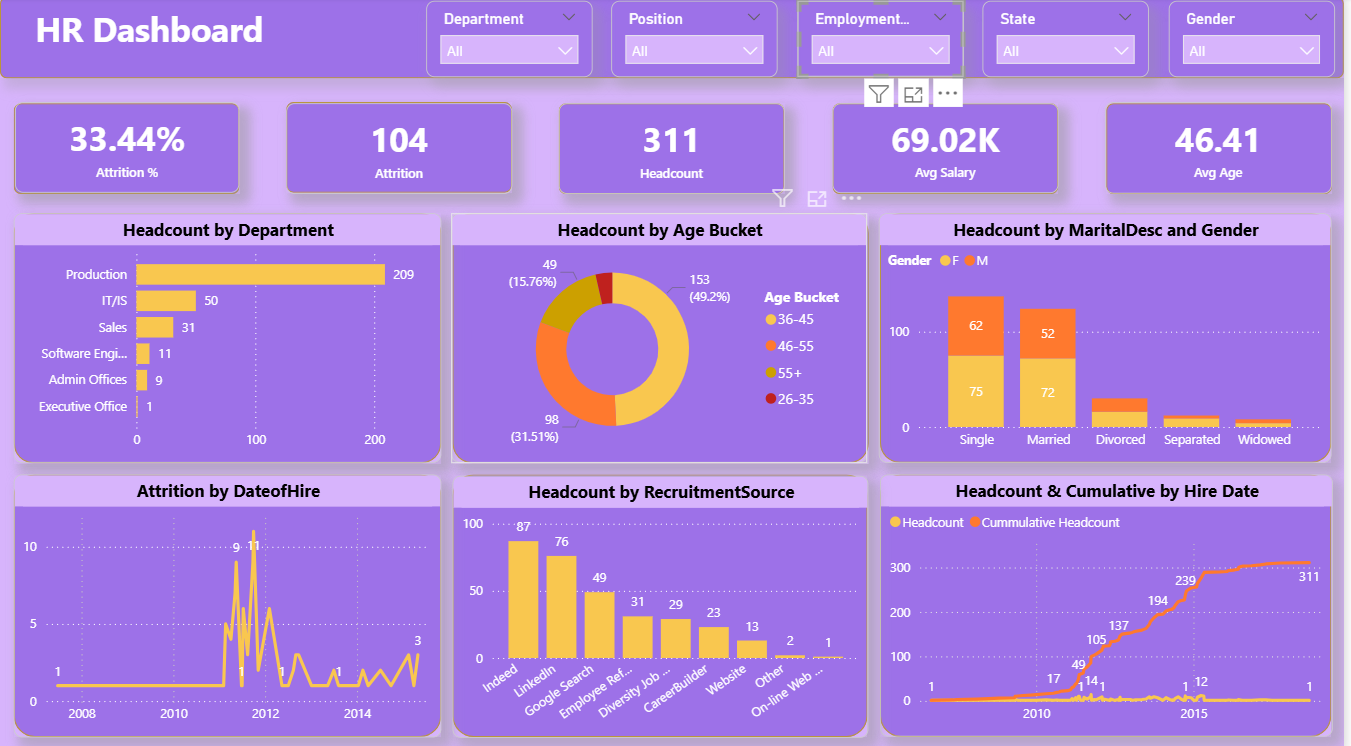

The page's visual inventory and layout, read from the dashboard file:
{"tool":"powerbi","page":{"name":"Page 1","canvas":[1280,720],"ordinal":0},"visuals":[{"type":"shape","box":[0,0,1279.8,77.4],"z":0},{"type":"shape","box":[13.2,100.9,214.9,86.5],"z":1000},{"type":"shape","box":[272.6,99.7,214.9,86.5],"z":2000},{"type":"shape","box":[531.9,100.9,214.9,86.5],"z":3000},{"type":"shape","box":[792.5,100.9,214.9,86.5],"z":4000},{"type":"shape","box":[1053.1,100.9,214.9,86.5],"z":5000},{"type":"shape","box":[13.1,206,407.1,238.1],"z":6000},{"type":"shape","box":[431,206,396.4,238.1],"z":7000},{"type":"shape","box":[838.1,206.5,429.9,237.7],"z":8000},{"type":"shape","box":[13.1,454.8,407.1,250],"z":9000},{"type":"shape","box":[431,454.8,395.2,250],"z":10000},{"type":"shape","box":[838.1,454.8,429.8,250],"z":11000},{"type":"card","fields":{"Values":["MEASUR.Headcount"]},"box":[532.5,100.7,215,86],"z":12000},{"type":"card","fields":{"Values":["MEASUR.Attrition %"]},"box":[14.4,99.7,213.7,86.5],"z":13000},{"type":"card","fields":{"Values":["MEASUR.Avg Salary"]},"box":[792.7,100.9,214.9,85.3],"z":14000},{"type":"card","fields":{"Values":["MEASUR.Avg Age"]},"box":[1052.9,99.5,215.7,87.1],"z":15000},{"type":"card","fields":{"Values":["MEASUR.Attrition"]},"box":[272.3,100.7,215,86],"z":16000},{"type":"clusteredBarChart","fields":{"Y":["MEASUR.Headcount"],"Category":["HRDataset_v14.Department"]},"box":[13.2,206.5,407.1,237.7],"z":17000},{"type":"donutChart","fields":{"Category":["HRDataset_v14.Age Bucket"],"Y":["MEASUR.Headcount"]},"box":[429.9,206.5,396.2,237.7],"z":18000},{"type":"columnChart","fields":{"Category":["HRDataset_v14.MaritalDesc"],"Y":["MEASUR.Headcount"],"Series":["HRDataset_v14.Gender"]},"box":[836.9,206.5,431.1,237.7],"z":19000},{"type":"lineChart","title":"Headcount & Cumulative by Hire Date","fields":{"Category":["HRDataset_v14.DateofHire"],"Y":["MEASUR.Headcount","MEASUR.Cummulative Headcount"]},"box":[838.1,455.1,431.1,249.8],"z":20000},{"type":"lineChart","fields":{"Y":["MEASUR.Attrition"],"Category":["HRDataset_v14.DateofHire"]},"box":[13.1,454.8,407.1,250],"z":21000},{"type":"columnChart","fields":{"Y":["MEASUR.Headcount"],"Category":["HRDataset_v14.RecruitmentSource"]},"box":[431.1,456,396.2,249.8],"z":22000},{"type":"slicer","fields":{"Values":["HRDataset_v14.Position"]},"box":[582.4,3.9,158.6,72.9],"z":23000},{"type":"slicer","fields":{"Values":["HRDataset_v14.Department"]},"box":[405.7,3.9,158.6,72.9],"z":24000},{"type":"slicer","fields":{"Values":["HRDataset_v14.Gender"]},"box":[1112.5,3.9,158,72.7],"z":25000},{"type":"slicer","fields":{"Values":["HRDataset_v14.State"]},"box":[935.8,3.9,158.6,72.9],"z":26000},{"type":"slicer","fields":{"Values":["HRDataset_v14.EmploymentStatus"]},"box":[759.1,3.9,158.6,72.9],"z":27000},{"type":"textbox","box":[28.6,3.6,329.8,73.8],"z":28000}]}

Visuals, with their boxes in screenshot pixels (x1, y1, x2, y2), scaled from the page's 1280x720 canvas onto the 1351x746 screenshot:
shape: (left=0, top=0, right=1350, bottom=80)
shape: (left=14, top=105, right=241, bottom=194)
shape: (left=288, top=103, right=515, bottom=193)
shape: (left=561, top=105, right=788, bottom=194)
shape: (left=836, top=105, right=1063, bottom=194)
shape: (left=1112, top=105, right=1338, bottom=194)
shape: (left=14, top=213, right=444, bottom=460)
shape: (left=455, top=213, right=873, bottom=460)
shape: (left=885, top=214, right=1338, bottom=460)
shape: (left=14, top=471, right=444, bottom=730)
shape: (left=455, top=471, right=872, bottom=730)
shape: (left=885, top=471, right=1338, bottom=730)
card - MEASUR.Headcount: (left=562, top=104, right=789, bottom=193)
card - MEASUR.Attrition %: (left=15, top=103, right=241, bottom=193)
card - MEASUR.Avg Salary: (left=837, top=105, right=1063, bottom=193)
card - MEASUR.Avg Age: (left=1111, top=103, right=1339, bottom=193)
card - MEASUR.Attrition: (left=287, top=104, right=514, bottom=193)
clusteredBarChart - MEASUR.Headcount x HRDataset_v14.Department: (left=14, top=214, right=444, bottom=460)
donutChart - HRDataset_v14.Age Bucket x MEASUR.Headcount: (left=454, top=214, right=872, bottom=460)
columnChart - HRDataset_v14.MaritalDesc x MEASUR.Headcount: (left=883, top=214, right=1338, bottom=460)
"Headcount & Cumulative by Hire Date" lineChart: (left=885, top=472, right=1340, bottom=730)
lineChart - MEASUR.Attrition x HRDataset_v14.DateofHire: (left=14, top=471, right=444, bottom=730)
columnChart - MEASUR.Headcount x HRDataset_v14.RecruitmentSource: (left=455, top=472, right=873, bottom=731)
slicer - HRDataset_v14.Position: (left=615, top=4, right=782, bottom=80)
slicer - HRDataset_v14.Department: (left=428, top=4, right=596, bottom=80)
slicer - HRDataset_v14.Gender: (left=1174, top=4, right=1341, bottom=79)
slicer - HRDataset_v14.State: (left=988, top=4, right=1155, bottom=80)
slicer - HRDataset_v14.EmploymentStatus: (left=801, top=4, right=969, bottom=80)
textbox: (left=30, top=4, right=378, bottom=80)
